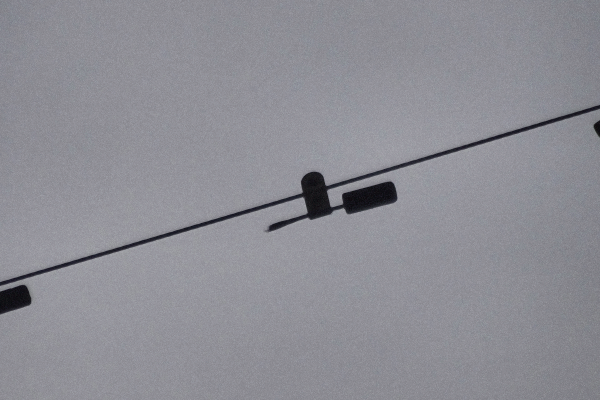damper_defect: (259, 166, 399, 237)
